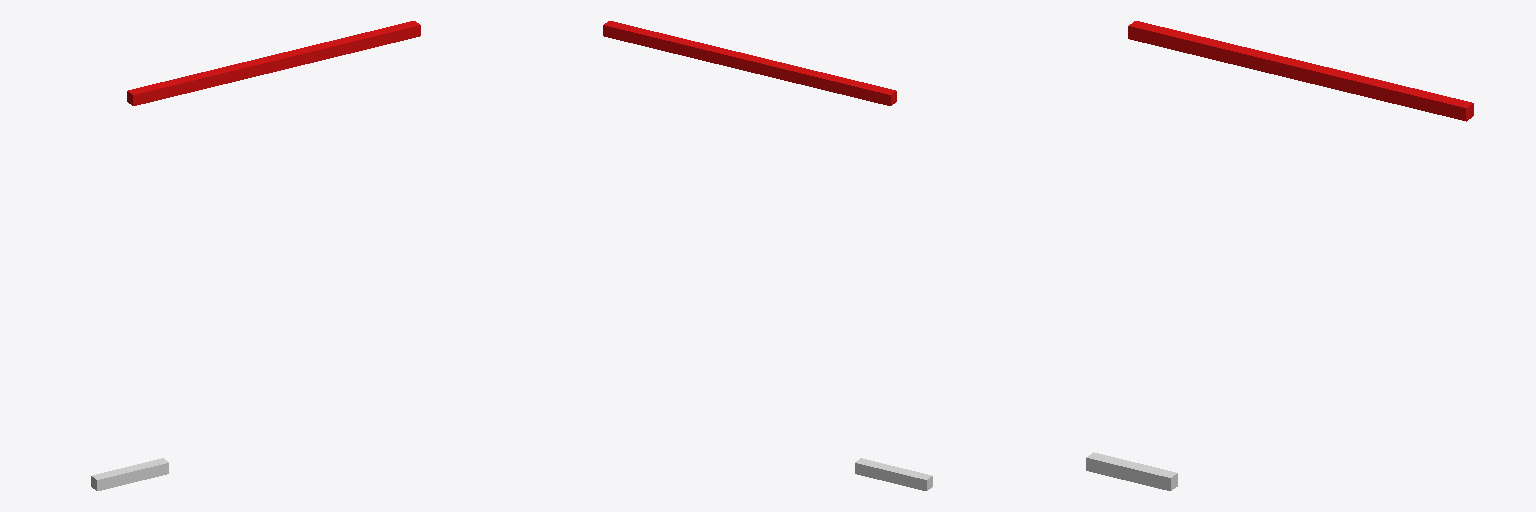
URDF robot description (lbr_iiwa):
<?xml version="1.0" ?>
<robot name="lbr_iiwa">
    <link name="world"> 
        <visual>
          <origin rpy="0 0 0" xyz="0 0 0"/>
          <geometry>
            <box size="1 0.15 0.15"/>
          </geometry>
          <material name="black">
            <color rgba=".9 .9 .9 1"/>
          </material>
    </visual>
    </link>   

    <link name="link1">
    <inertial>
      <origin rpy="0 0 0" xyz="0.5 0 0"/>
      <mass value="1"/>
      <inertia ixx="0.05" ixy="0" ixz="0" iyy="0.06" iyz="0" izz="0.03"/>
    </inertial>
    <visual>
      <origin rpy="0 0 0" xyz="0.5 0 0"/>
      <geometry>
        <box size="1 0.15 0.15"/>
      </geometry>
      <material name="red">
        <color rgba=".9 .1 .1 1"/>
      </material>
    </visual>
    <collision>
      <origin rpy="0 0 0" xyz="0.5 0 0"/>
      <geometry>
        <box size="1 0.15 0.15"/>
      </geometry>
      <material name="Grey"/>
    </collision>    
  </link>    

    <link name="link2">
    <inertial>
      <origin rpy="0 0 0" xyz="0.5 0 0"/>
      <mass value="1"/>
      <inertia ixx="0.05" ixy="0" ixz="0" iyy="0.06" iyz="0" izz="0.03"/>
    </inertial>
    <visual>
      <origin rpy="0 0 0" xyz="0.5 0 0"/>
      <geometry>
        <box size="1 0.15 0.15"/>
      </geometry>
      <material name="red">
        <color rgba=".9 .1 .1 1"/>
      </material>
    </visual>
    <collision>
      <origin rpy="0 0 0" xyz="0.5 0 0"/>
      <geometry>
        <box size="1 0.15 0.15"/>
      </geometry>
      <material name="Grey"/>
    </collision>    
  </link>

   <link name="link3">
    <inertial>
      <origin rpy="0 0 0" xyz="0.5 0 0"/>
      <mass value="1"/>
      <inertia ixx="0.05" ixy="0" ixz="0" iyy="0.06" iyz="0" izz="0.03"/>
    </inertial>
    <visual>
      <origin rpy="0 0 0" xyz="0.5 0 0"/>
      <geometry>
        <box size="1 0.15 0.15"/>
      </geometry>
      <material name="red">
        <color rgba=".9 .1 .1 1"/>
      </material>
    </visual>
    <collision>
      <origin rpy="0 0 0" xyz="0.5 0 0"/>
      <geometry>
        <box size="1 0.15 0.15"/>
      </geometry>
      <material name="Grey"/>
    </collision>    
  </link>
  
  <link name="link4">
    <inertial>
      <origin rpy="0 0 0" xyz="0.5 0 0"/>
      <mass value="1"/>
      <inertia ixx="0.05" ixy="0" ixz="0" iyy="0.06" iyz="0" izz="0.03"/>
    </inertial>
    <visual>
      <origin rpy="0 0 0" xyz="0.5 0 0"/>
      <geometry>
        <box size="1 0.15 0.15"/>
      </geometry>
      <material name="red">
        <color rgba=".9 .1 .1 1"/>
      </material>
    </visual>
    <collision>
      <origin rpy="0 0 0" xyz="0.5 0 0"/>
      <geometry>
        <box size="1 0.15 0.15"/>
      </geometry>
      <material name="Grey"/>
    </collision>    
  </link>

  <link name="end_effector">
    <collision>
      <origin rpy="0 0 0" xyz="0 0 0"/>
      <geometry>
        <box size="0 0 0"/>
      </geometry>
      <material name="Grey"/>
    </collision>
  </link>   

  <joint name="joint1" type="revolute">
    <parent link="world"/>
    <child link="link1"/>
    <origin rpy="0 0 0" xyz="0 0 5"/>
    <axis xyz="0 0 1"/>
    <limit effort="150" lower="-3.14159265358979323846" upper="3.14159265358979323846" velocity="10"/>    
    <dynamics damping="5.0"/>
  </joint>

  <joint name="joint2" type="revolute">
    <parent link="link1"/>
    <child link="link2"/>
    <origin rpy="-1.57079632679489661923 0 0" xyz="1 0 0"/>
    <axis xyz="0 0 1"/>
    <limit effort="70" lower="-3.14159265358979323846" upper="3.14159265358979323846" velocity="10"/>    
    <dynamics damping="5.0"/>
  </joint>

  <joint name="joint3" type="revolute">
    <parent link="link2"/>
    <child link="link3"/>
    <origin rpy="0 0 0" xyz="1 0 0"/>
    <axis xyz="0 0 1"/>
    <limit effort="60" lower="-3.14159265358979323846" upper="3.14159265358979323846" velocity="10"/>    
    <dynamics damping="5.0"/>
  </joint>

  <joint name="joint4" type="revolute">    
    <parent link="link3"/>
    <child link="link4"/>
    <origin rpy="1.57079632679489661923 0 0" xyz="1 0 0"/>
    <axis xyz="0 0 1"/>
    <limit effort="40" lower="-3.14159265358979323846" upper="3.14159265358979323846" velocity="10"/>    
    <dynamics damping="5.0"/>
  </joint>
  
  <joint name="joint5" type="fixed">    
    <parent link="link4"/>
    <child link="end_effector"/>
    <origin rpy="0 0 0" xyz="1 0 0"/>
    <axis xyz="0 0 1"/>
    <limit effort="2" lower="-3.1" upper="3.1" velocity="10"/>    
    <dynamics damping="5.0"/>
  </joint>

  <!--joint name="joint4" type="revolute">
    <parent link="link3"/>
    <child link="end_effector"/>
    <origin rpy="0 0 0" xyz="1 0 0"/>
    <axis xyz="0 0 1"/>
    <limit effort="10" lower="-3.14159265359" upper="3.14159265359" velocity="10"/>    
    <dynamics damping="0.5"/>
  </joint-->

    
</robot>

--- Facts derived from the render (not from the file) ---
Views: 3 orthographic renders of the robot side by side, from view 1: azimuth 30°, elevation 25°; view 2: azimuth 150°, elevation 25°; view 3: azimuth 330°, elevation 25°.
Robot: lbr_iiwa — 6 links, 5 joints (4 revolute, 1 fixed); root link world; default pose: all joints at 0.
Visible links, largest first — view 1: world, link1, link4, link2, link3; view 2: world, link1, link4, link2, link3; view 3: world, link4, link3, link1, link2.
Link boxes in pixels (<box>): world: <box>91,458,168,490</box>; link1: <box>127,73,204,105</box>; link4: <box>343,21,420,53</box>; link2: <box>199,56,276,88</box>; link3: <box>271,38,348,70</box>; world: <box>855,458,932,490</box>; link1: <box>819,73,896,105</box>; link4: <box>603,21,680,53</box>; link2: <box>747,56,824,88</box>; link3: <box>675,38,752,70</box>; world: <box>1086,452,1177,490</box>; link4: <box>1382,82,1473,121</box>; link3: <box>1297,62,1388,100</box>; link1: <box>1128,21,1219,59</box>; link2: <box>1213,41,1303,79</box>.
Size in the robot's own frame: 4.5 by 0.15 by 5.15 metres.
Geometry: primitives only (box / cylinder / sphere), no mesh files.
